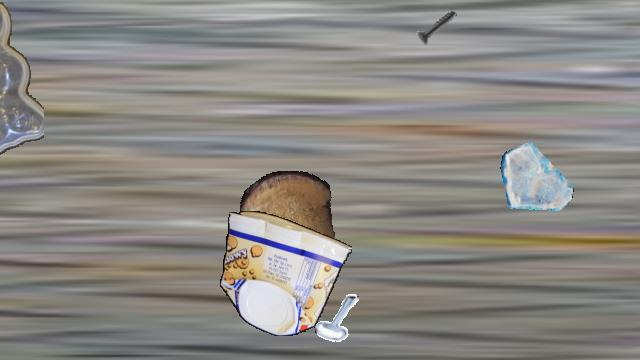glass: (500, 139, 574, 213)
metal: (411, 1, 463, 53), (314, 293, 366, 345), (0, 305, 9, 355)
plastic: (220, 211, 352, 335), (0, 1, 43, 169)
wood: (240, 171, 334, 275)
